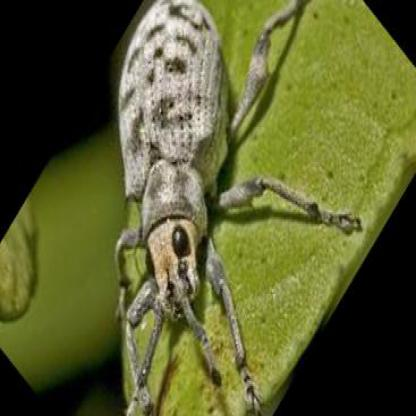ash weevil: (115, 1, 360, 412)
